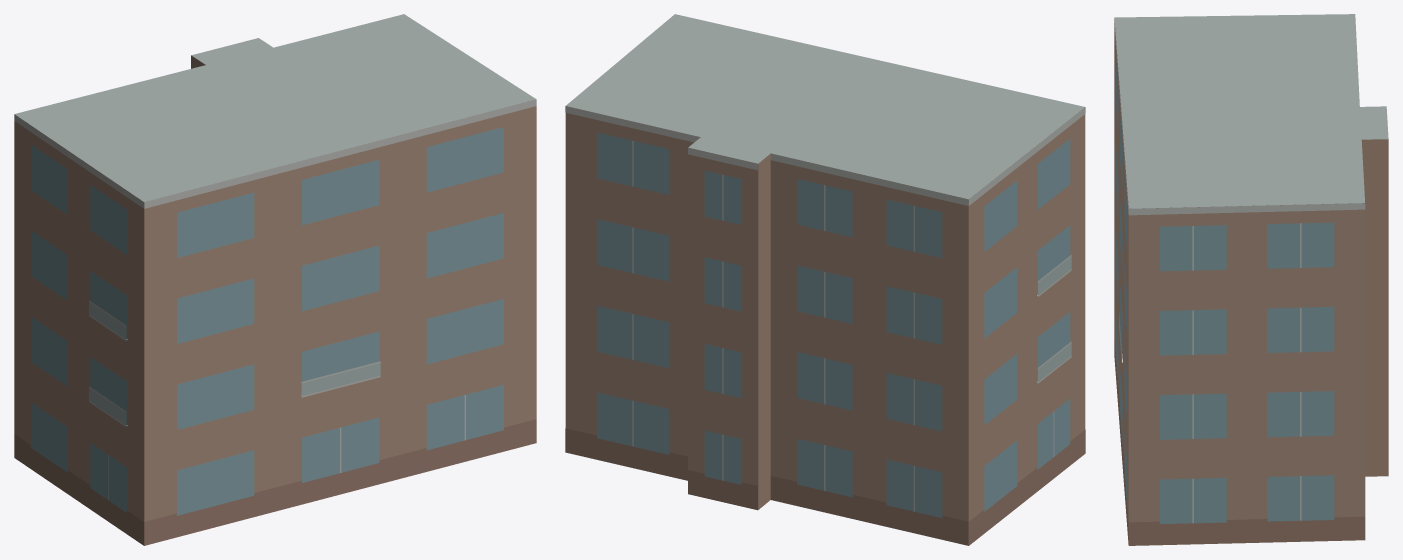
The model's file is survey-upis-32700163.glb.
3 views of the same model, side by side, from view 1: azimuth 30°, elevation 25°; view 2: azimuth 150°, elevation 25°; view 3: azimuth 270°, elevation 25° (orthographic). The views are drawn at different scales.
Visible parts, largest first — view 1: survey-upis-32700163.tmp; view 2: survey-upis-32700163.tmp; view 3: survey-upis-32700163.tmp.
Boxes of the visible parts, x1=… form: survey-upis-32700163.tmp: x1=14, y1=14, x2=536, y2=545; survey-upis-32700163.tmp: x1=565, y1=14, x2=1085, y2=545; survey-upis-32700163.tmp: x1=1114, y1=14, x2=1388, y2=545.
Bounding box in the file's own units: 15.5 × 12.5 × 9.23.
